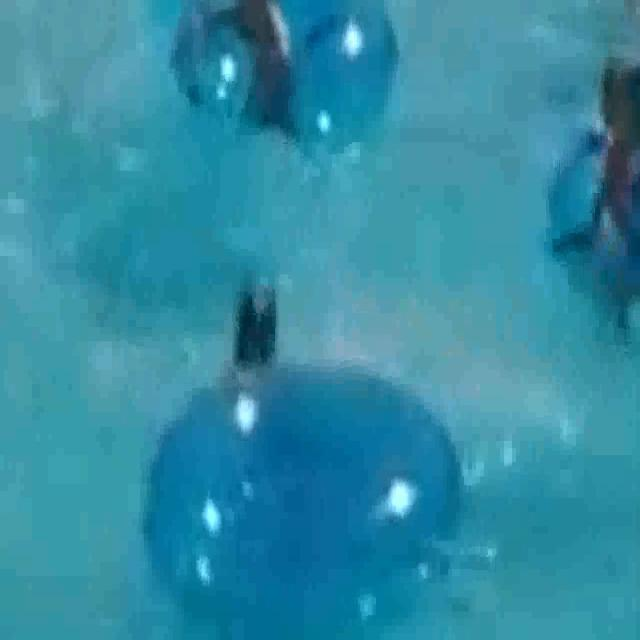Out of Water: (174, 251, 363, 364)
